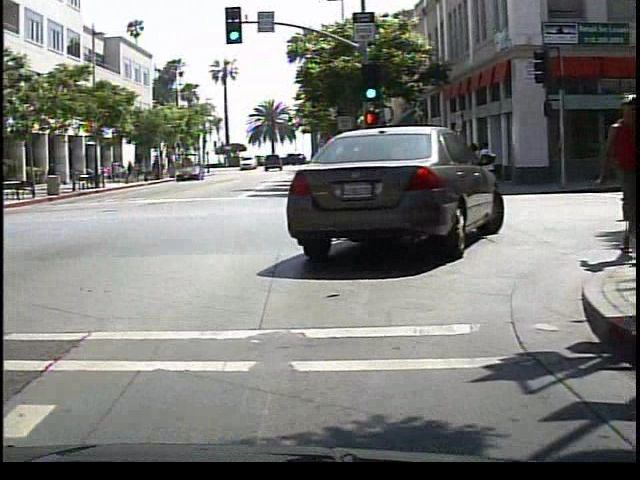person: (41, 159, 59, 191)
